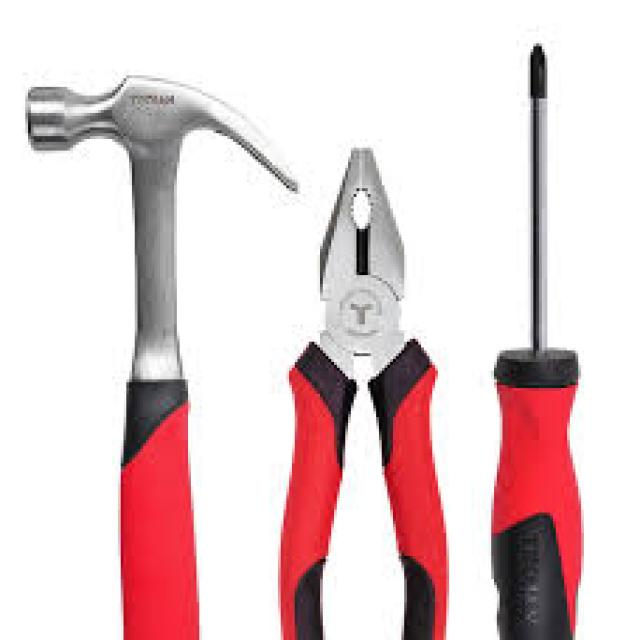hammer: (14, 51, 301, 502)
screw driver: (489, 28, 606, 640)
